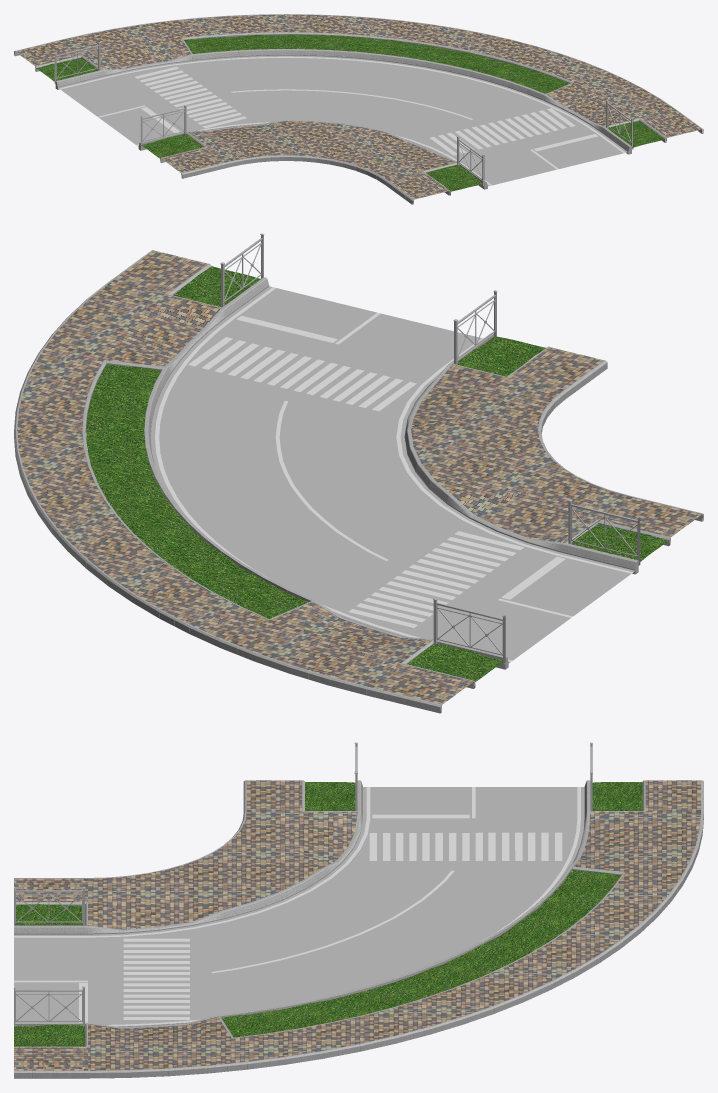
3 renders of one model, top to bottom at view 1: azimuth 30°, elevation 25°; view 2: azimuth 150°, elevation 25°; view 3: azimuth 270°, elevation 25°, orthographic. The views are drawn at different scales.
Parts seen in each view (by area): view 1: 道路04; view 2: 道路04; view 3: 道路04.
Part boxes in pixels (<box>): 道路04: <box>14,14,703,204</box>; 道路04: <box>14,233,703,713</box>; 道路04: <box>14,742,703,1078</box>.
Size of the model in its own units: 18.69 by 1.43 by 18.69.
Materials: 6 (3 with a texture image).
